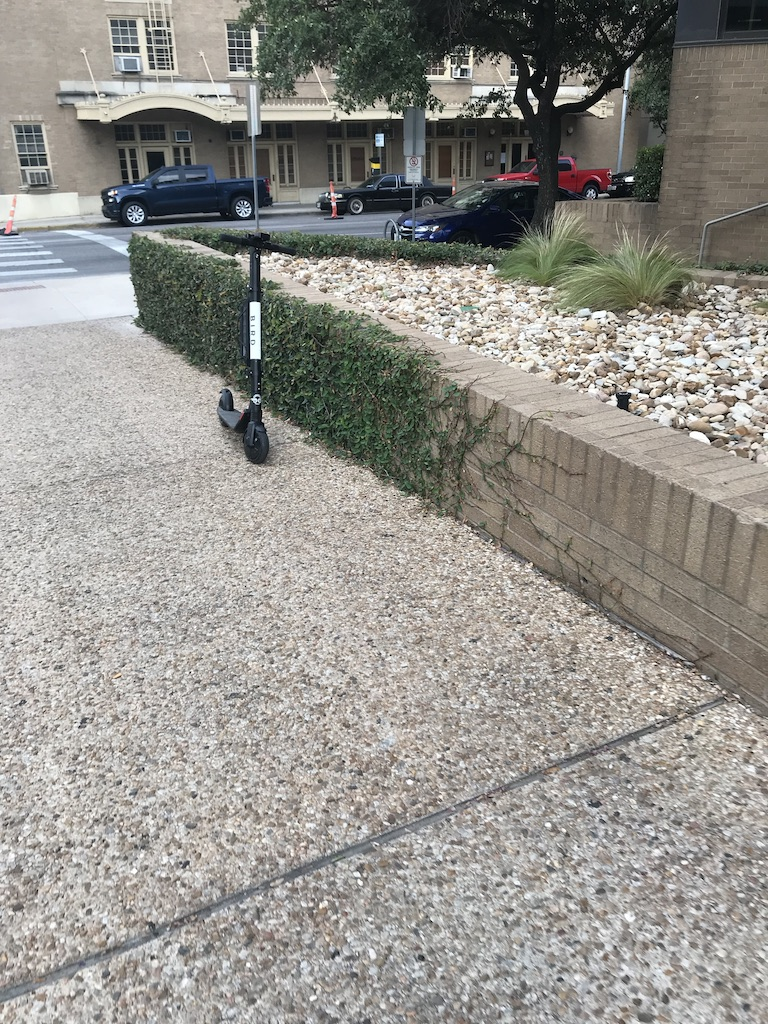scooter: (217, 233, 299, 465)
